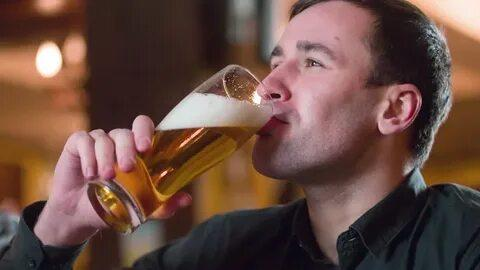Drinking: (85, 8, 422, 237)
